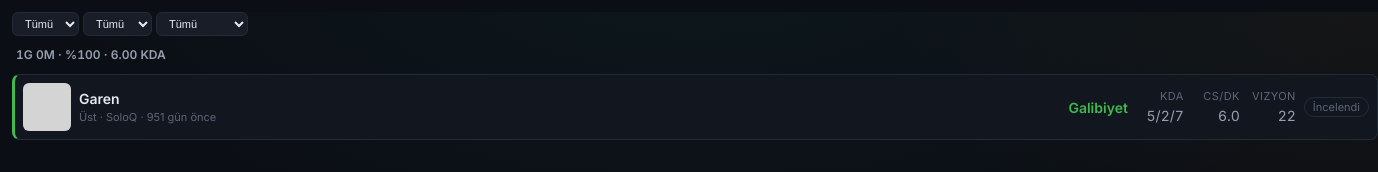
MatchHistoryView › shows a no-filter-match message when filters exclude every match (Slice 3)
The width and height of the screenshot is (1378, 172).
Expected: the list is shown, [12,74,1377,140]
Note: Mağlubiyet filtrele → hiç maç yok.
Select "Mağlubiyet" in the dropdown named "Sonuç" at (202, 24), box [156,12,248,36]
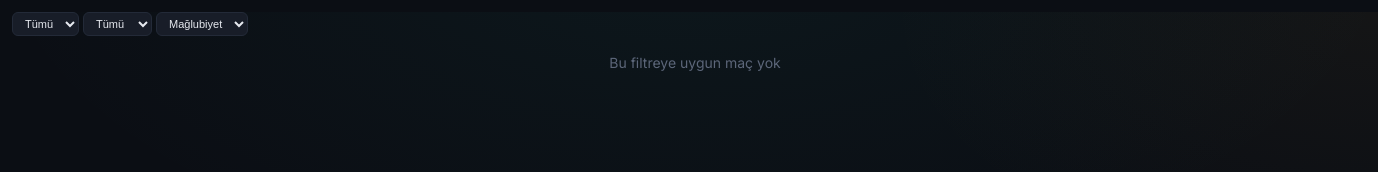
Result: the text "Bu filtreye uygun maç yok" is shown at [609,54,781,71]
Result: the list is gone
